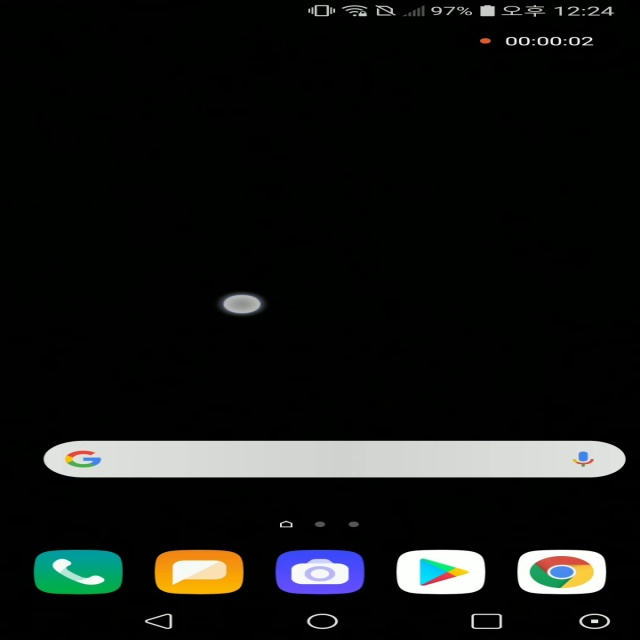Cursor: (221, 294, 265, 316)
